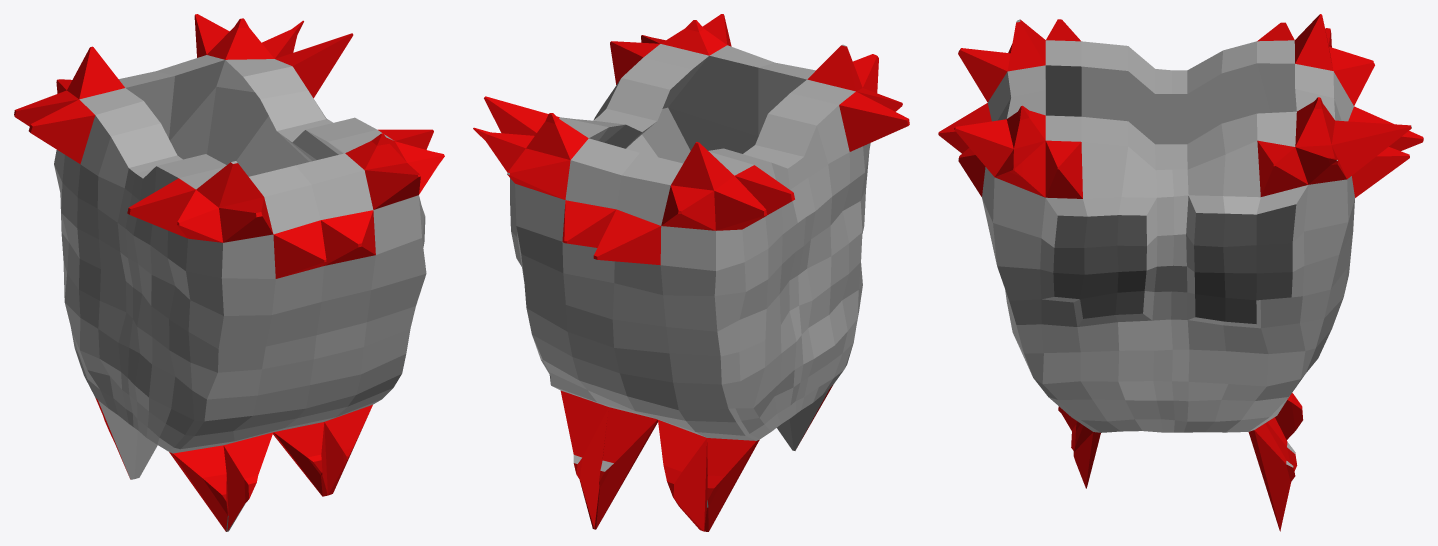
Rendered from BossArmor.fbx.
3 views of the same model, side by side, from view 1: azimuth 30°, elevation 25°; view 2: azimuth 150°, elevation 25°; view 3: azimuth 270°, elevation 25° (orthographic). The views are drawn at different scales.
Parts seen in each view (by area): view 1: Plane; view 2: Plane; view 3: Plane.
Boxes of the visible parts, x1,y1,x2,y2 form: Plane: (14, 14, 444, 531); Plane: (473, 14, 909, 531); Plane: (938, 14, 1423, 531).
Bounding box in the file's own units: 2215 × 2822 × 2735.
